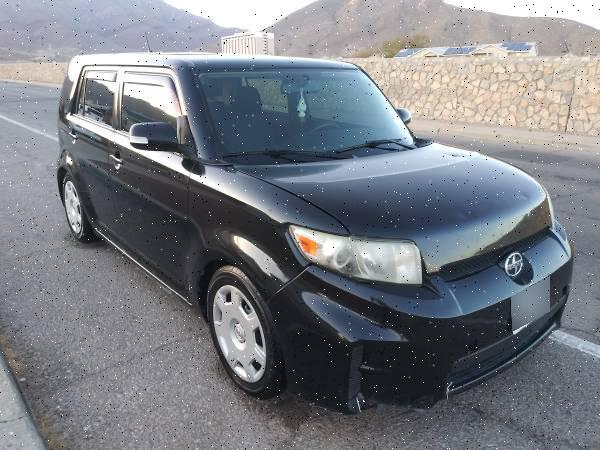Front_Bumper: (269, 221, 574, 413)
Front_Fender: (182, 160, 352, 309)
Front_Right_Door: (115, 133, 191, 301)
Front_Right_Window: (115, 73, 195, 163)
Front_Windshield: (195, 68, 418, 165)
Hood: (239, 142, 554, 284)
Rear_Right_Door: (57, 110, 116, 241)
Rear_Right_Window: (69, 67, 121, 132)
Right_Headlight: (289, 225, 423, 285)
Roof: (57, 52, 358, 160)
Wheel: (202, 266, 284, 396), (62, 177, 84, 238)
